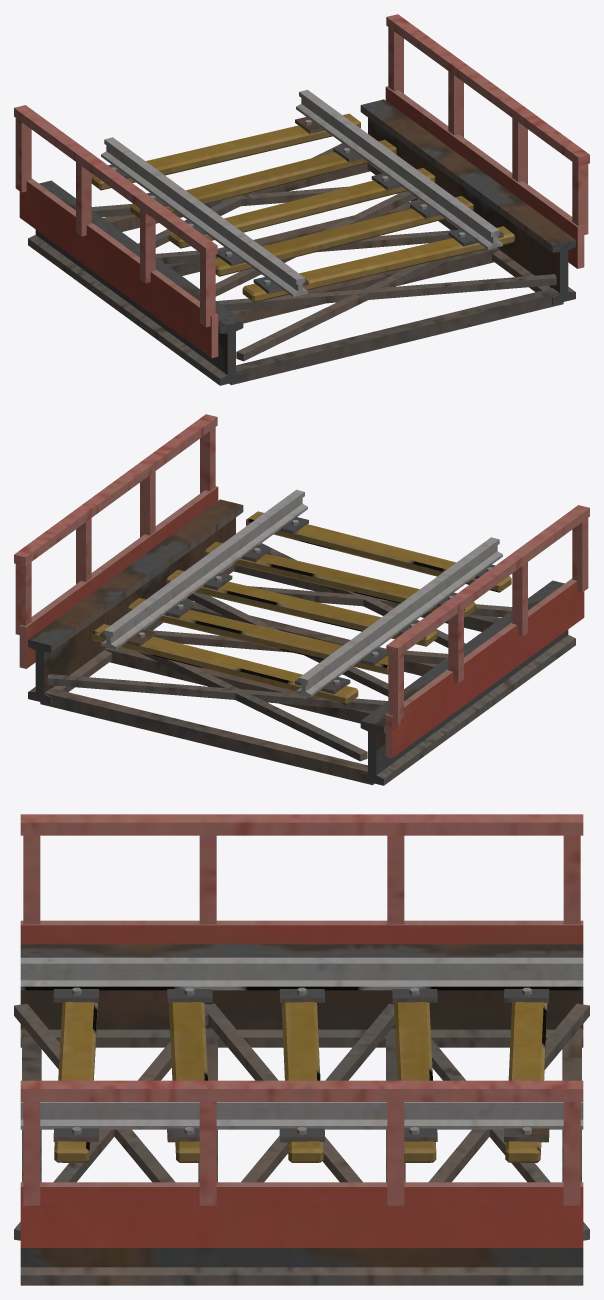
Rendered from elevated-straight-rail.glb.
The picture shows the model from 3 angles, top to bottom: view 1: azimuth 30°, elevation 25°; view 2: azimuth 150°, elevation 25°; view 3: azimuth 270°, elevation 25°; orthographic projection. The views are drawn at different scales.
Visible parts, largest first — view 1: body; view 2: body; view 3: body.
Part boxes in pixels (<box>): body: <box>14,14,589,385</box>; body: <box>14,414,589,785</box>; body: <box>14,814,589,1285</box>.
Size of the model in its own units: 2.31 by 0.825 by 2.05.
Materials: 1 (1 with a texture image).
